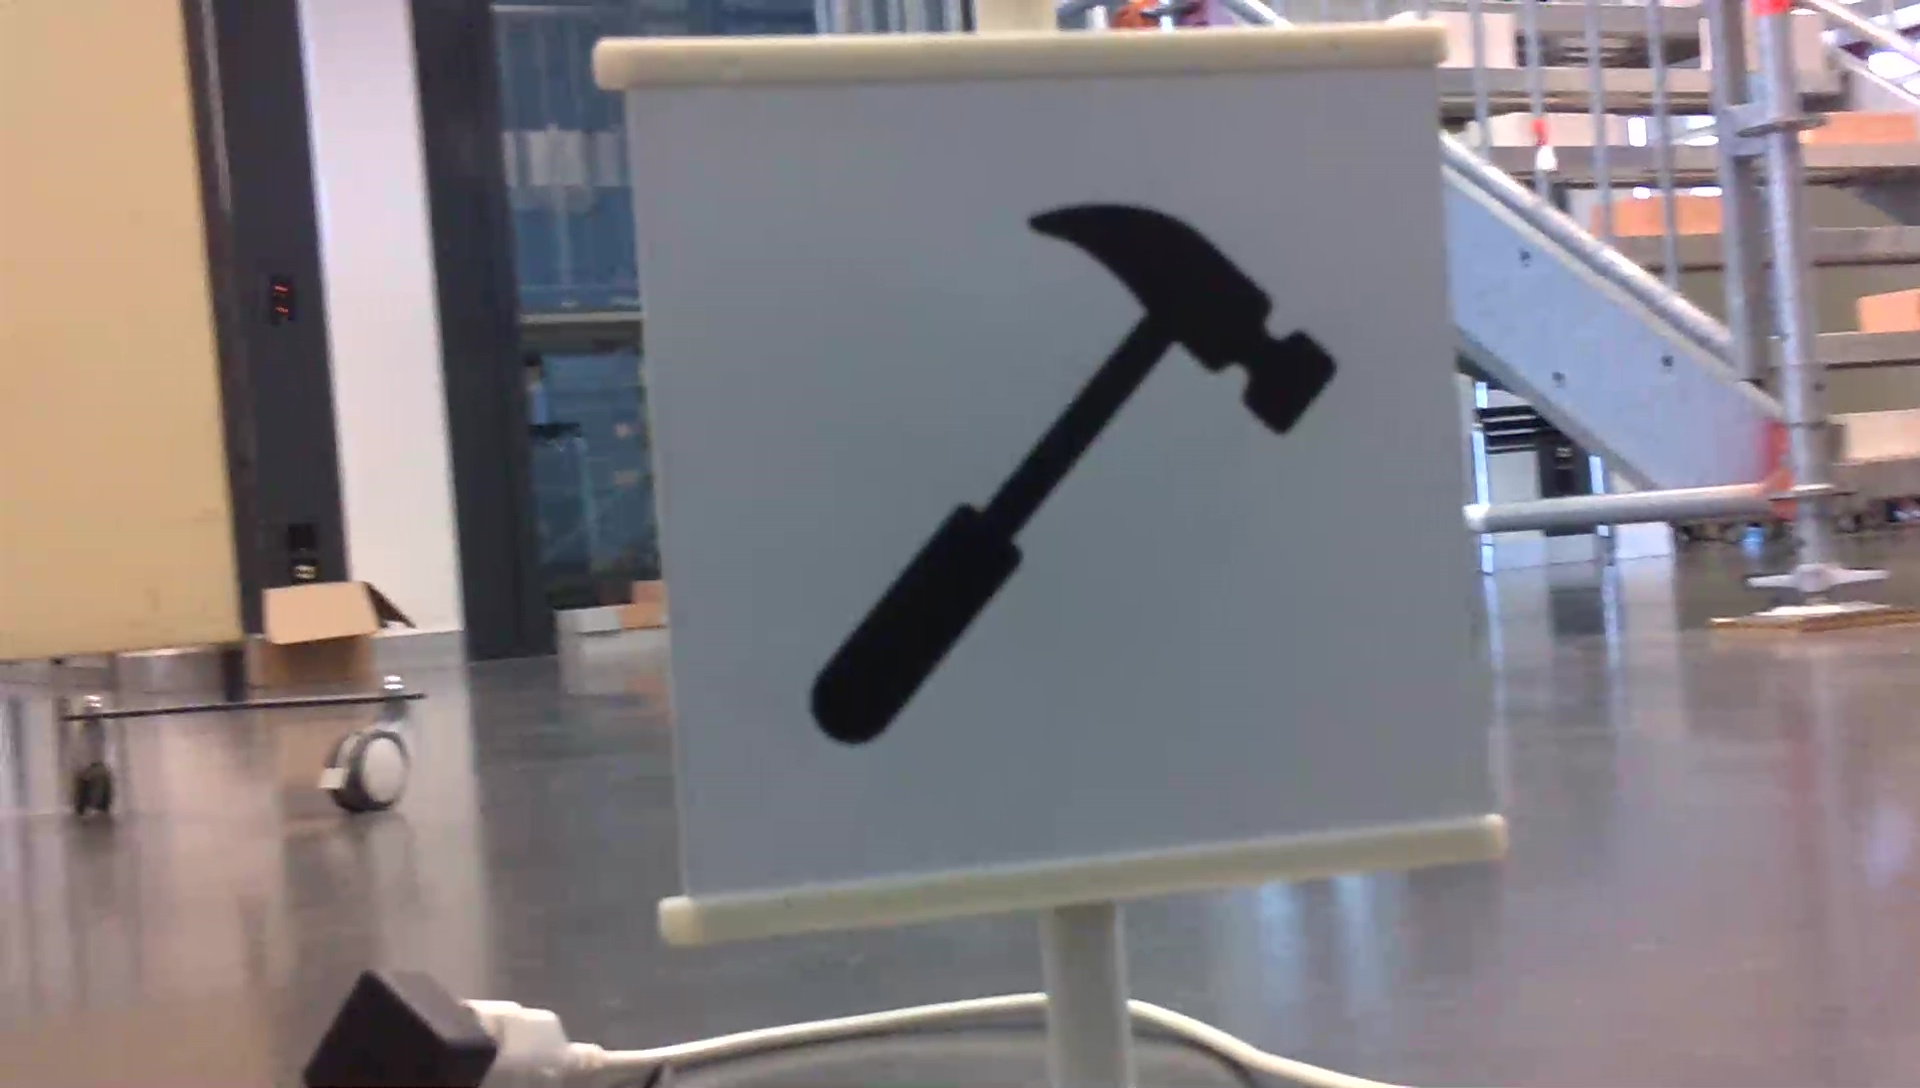brick: (1844, 410, 1920, 452), (1812, 111, 1917, 140), (1858, 287, 1917, 330), (1792, 15, 1822, 69)
hammer: (798, 196, 1342, 753)
